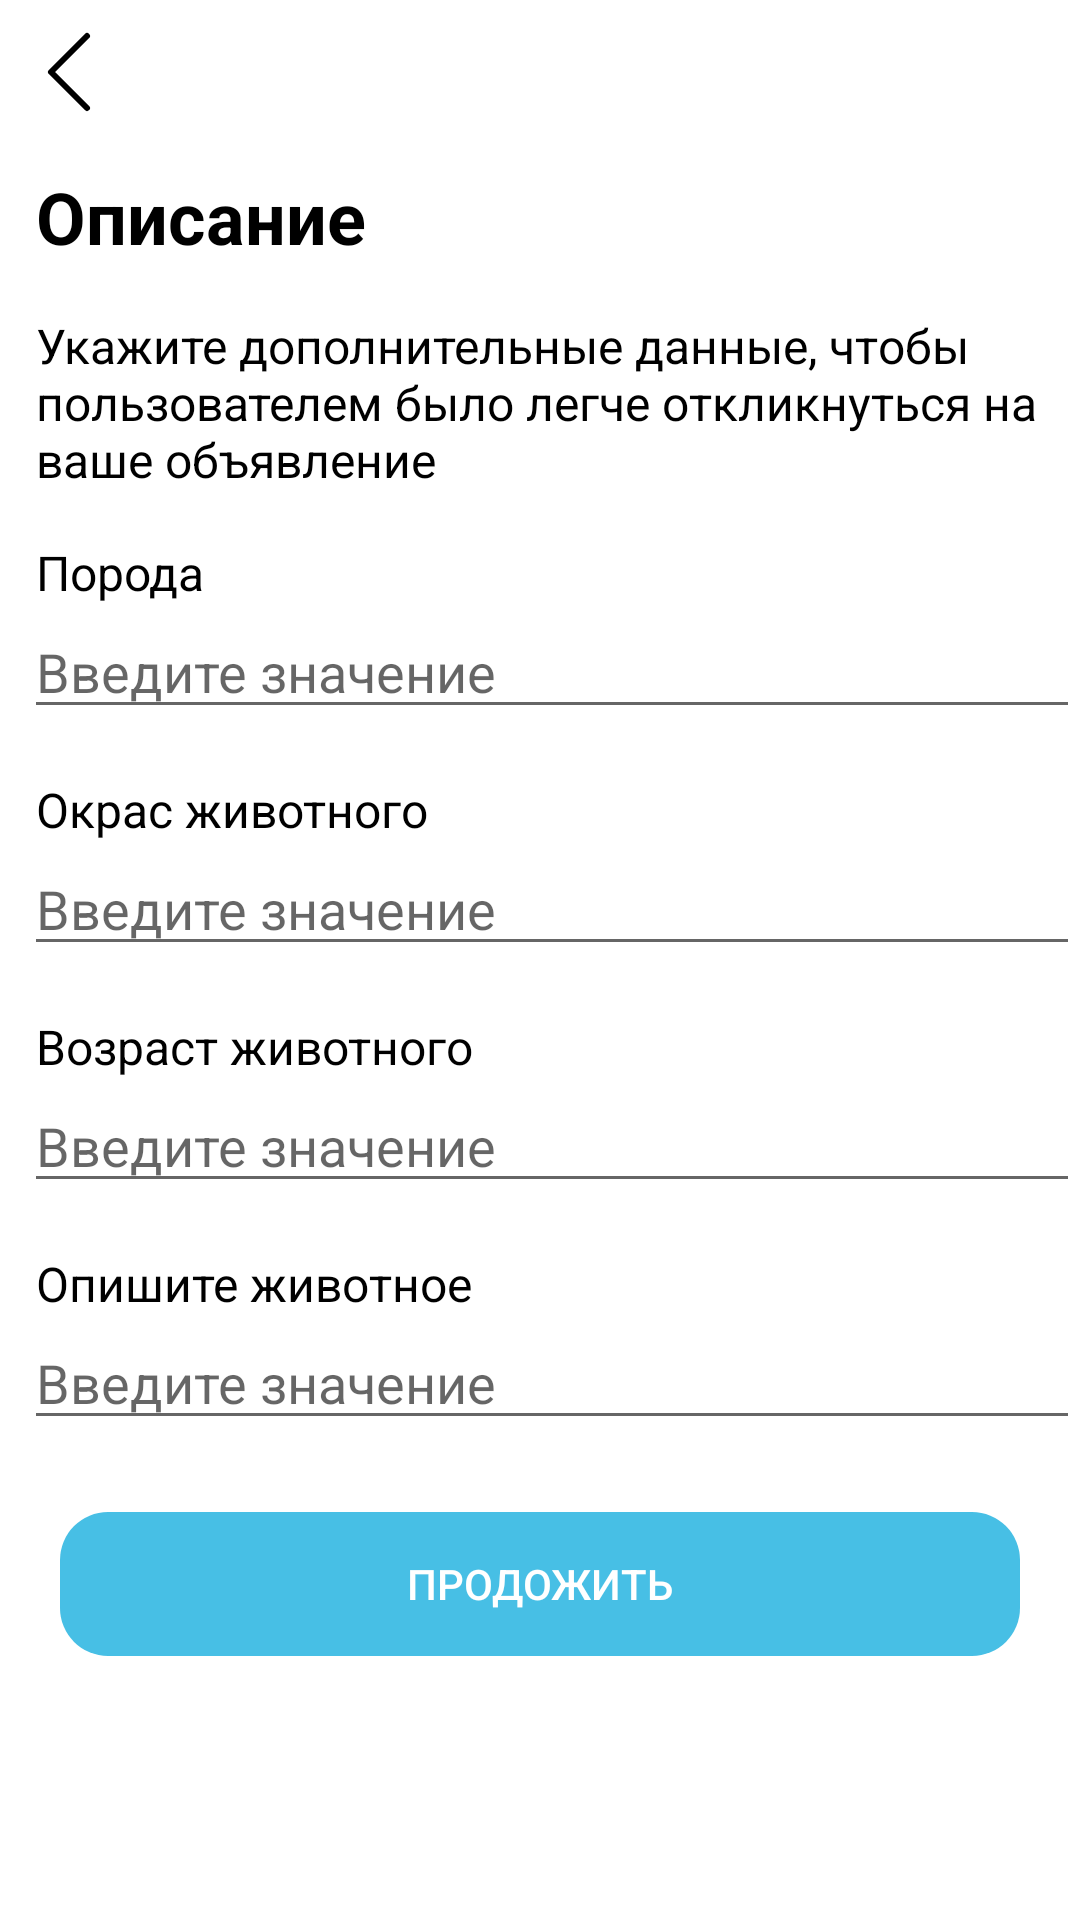

Named icons in this screenshot (1080px x 1920px) and their centers, (x=x, y=y):
back arrow: (x=69, y=71)
